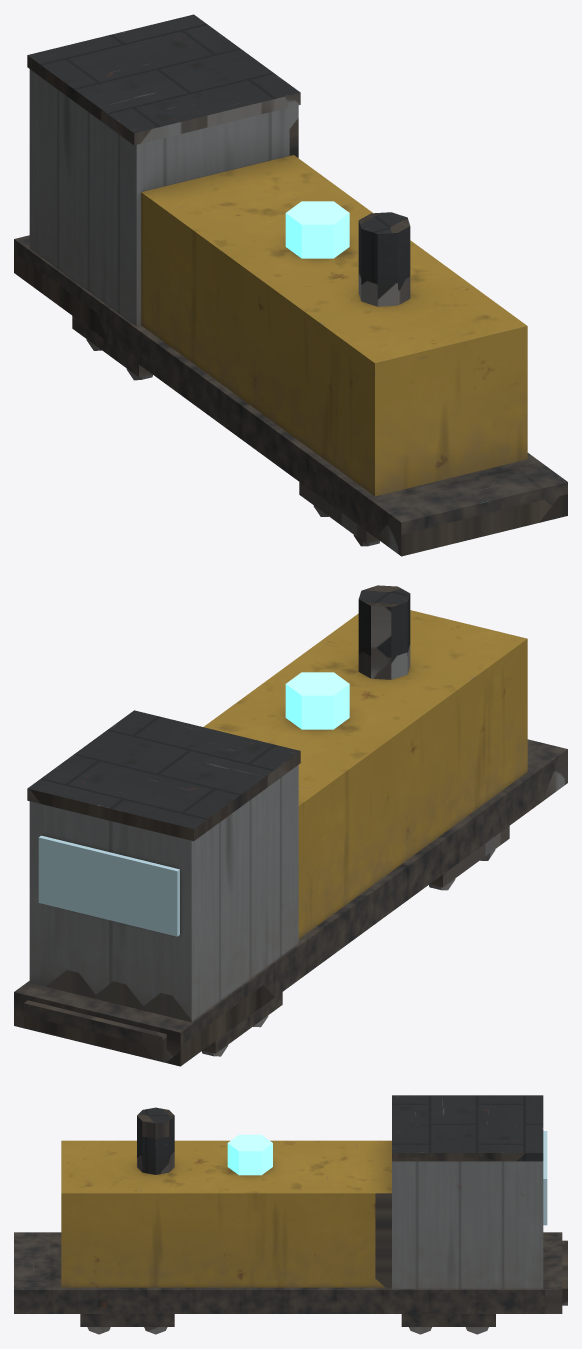
File: locomotiva.glb
The picture shows the model from 3 angles, top to bottom: view 1: azimuth 30°, elevation 25°; view 2: azimuth 150°, elevation 25°; view 3: azimuth 270°, elevation 25°; orthographic projection. The views are drawn at different scales.
Parts seen in each view (by area): view 1: locomotiva_corpo, locomotiva_truque0, locomotiva_truque1; view 2: locomotiva_corpo, locomotiva_truque0, locomotiva_truque1; view 3: locomotiva_corpo, locomotiva_truque0, locomotiva_truque1.
Part boxes in pixels (x1,y1,x2,y2): locomotiva_corpo: (14, 14, 567, 556); locomotiva_truque0: (299, 482, 379, 546); locomotiva_truque1: (72, 316, 152, 380); locomotiva_corpo: (14, 585, 567, 1066); locomotiva_truque0: (429, 826, 509, 890); locomotiva_truque1: (201, 992, 282, 1056); locomotiva_corpo: (14, 1095, 567, 1313); locomotiva_truque0: (80, 1314, 174, 1334); locomotiva_truque1: (401, 1314, 495, 1334).
Bounding box in the file's own units: 0.72 × 1.15 × 2.93.
Materials: 3 (1 with a texture image).
